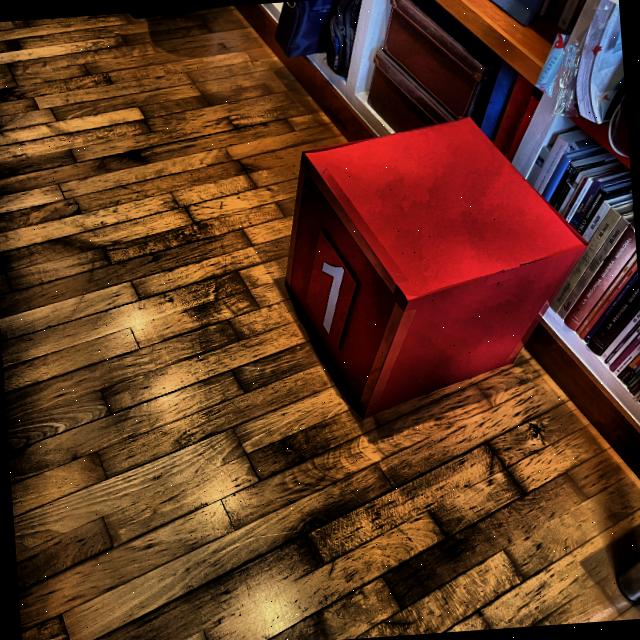one: (314, 252, 351, 340)
red box: (268, 109, 598, 423)
